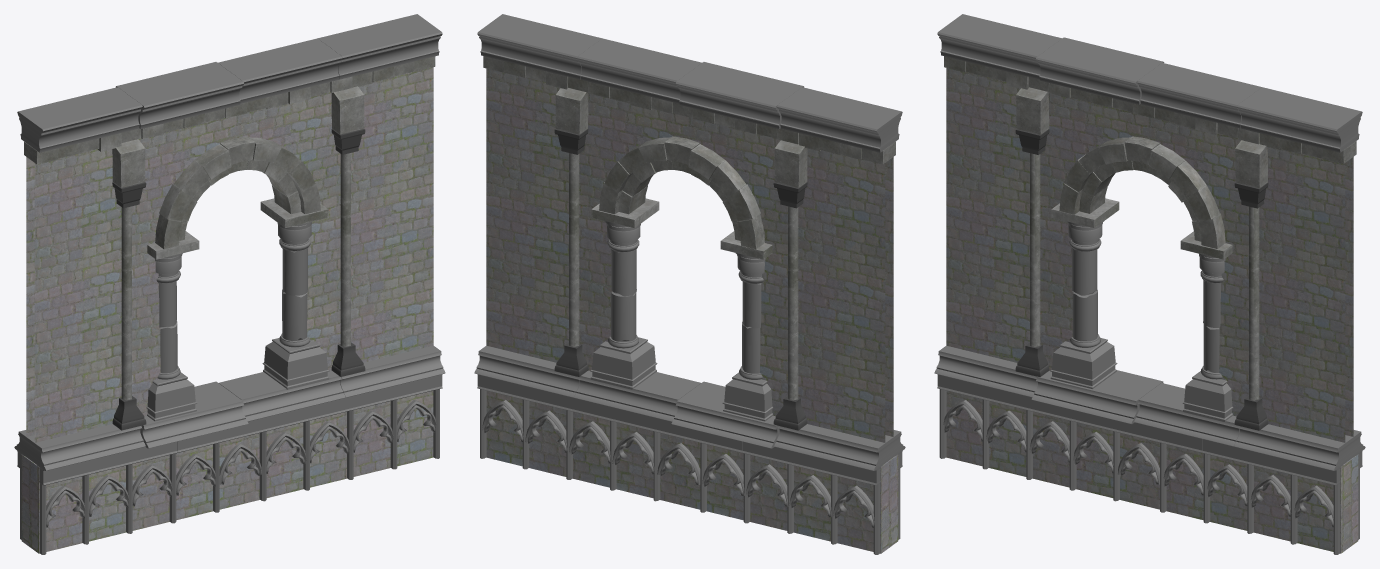
The model's file is SM_wall_modular_01.fbx.
The picture shows the model from 3 angles, left to right: view 1: azimuth 30°, elevation 25°; view 2: azimuth 150°, elevation 25°; view 3: azimuth 330°, elevation 25°; orthographic projection.
Visible parts, largest first — view 1: DarkFantasyObject50; view 2: DarkFantasyObject50; view 3: DarkFantasyObject50.
Part boxes in pixels (bbox=[...]): DarkFantasyObject50: bbox=[14, 14, 445, 554]; DarkFantasyObject50: bbox=[474, 14, 905, 554]; DarkFantasyObject50: bbox=[934, 14, 1365, 554].
Bounding box in the file's own units: 394 × 402 × 63.65.
